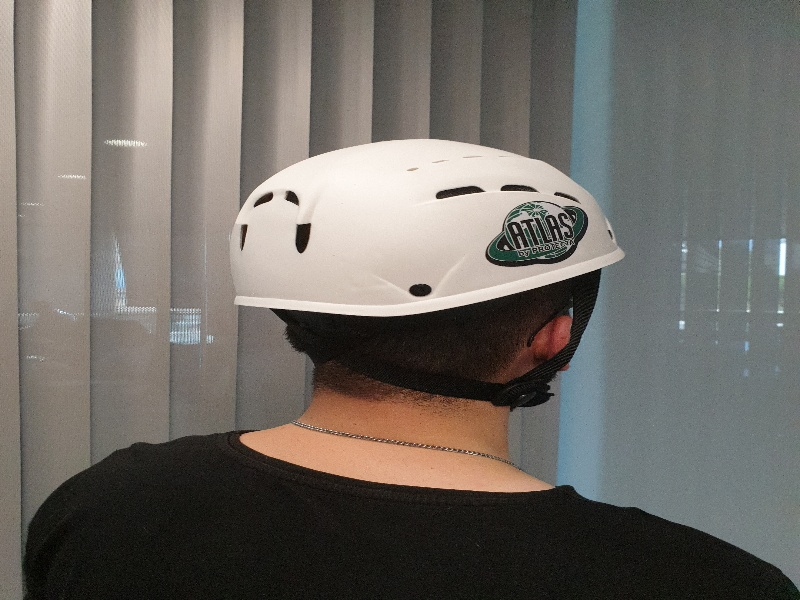Baret: (229, 140, 626, 308)
